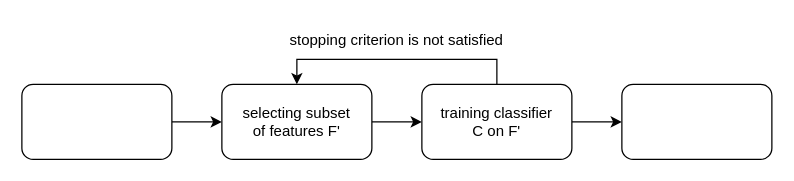
Some shapes in this 794 by 181 pixel diagram are drawn without their labels. Here are the shapes that lost their labels. From the top down, the centre of each, then its label:
At point (96, 121): "feature set F".
At point (696, 121): "resulting classifier C* on feature subset F*".
